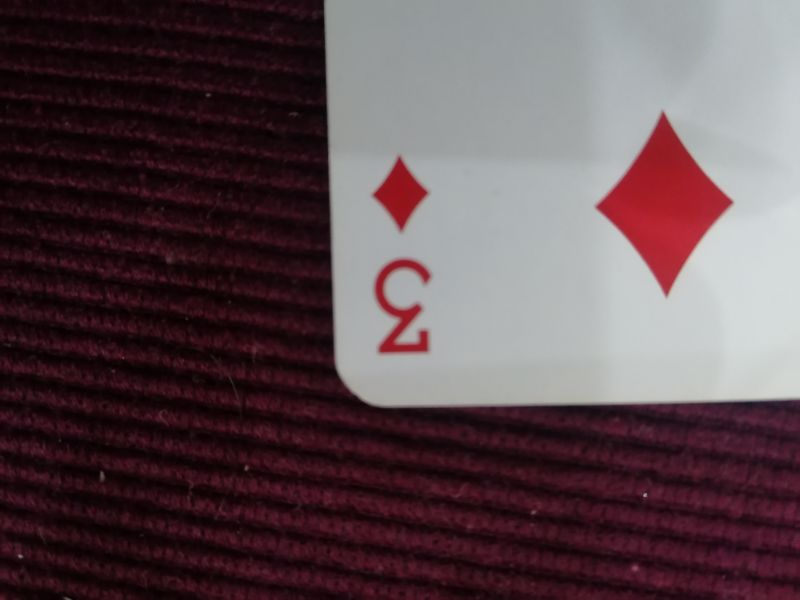3d: (365, 150, 439, 361)
